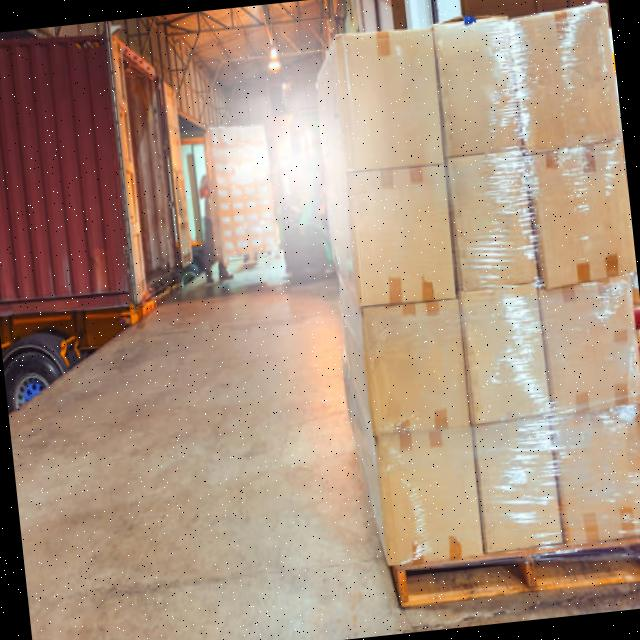Wooden-Pallets: (391, 536, 640, 621)
